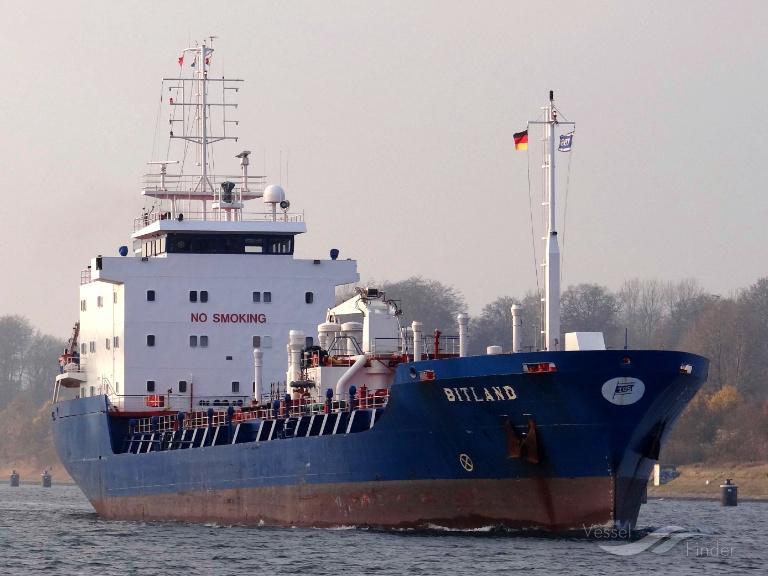OCR: (440, 382, 524, 406)
